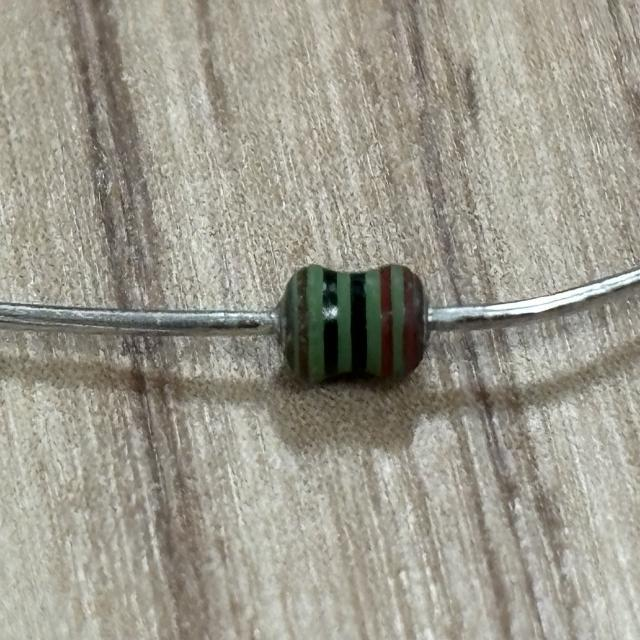resistor: (285, 260, 427, 392)
